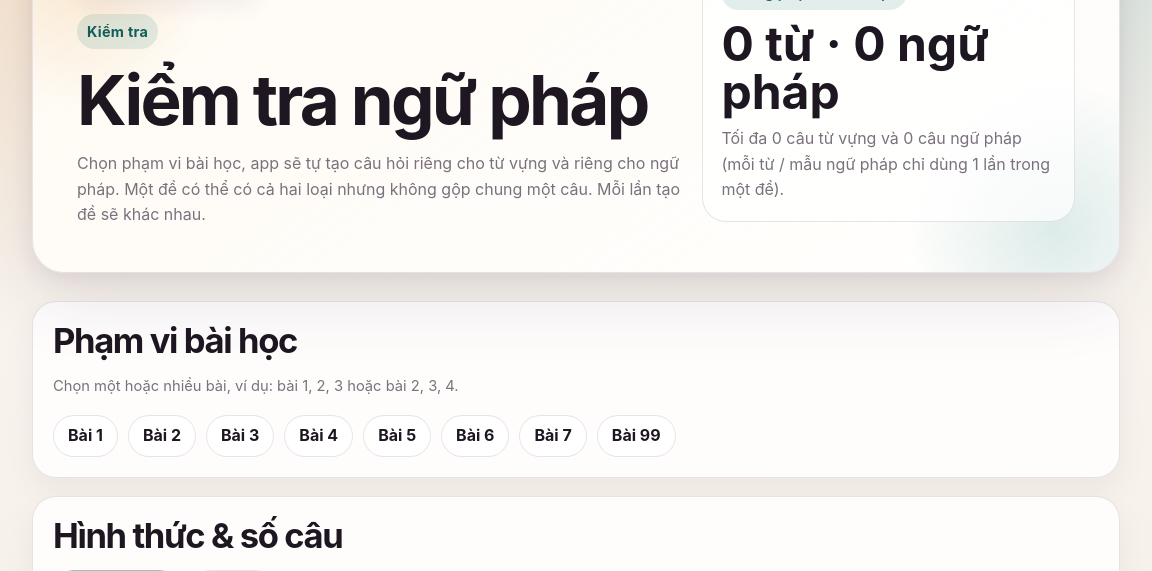
it: GrammarExamPage — làm đề trắc nghiệm › hiện giải thích ngữ pháp sau khi nộp bài
Click the button "Bài 99".
click(636, 436)  # box [597,415,676,457]
(page scrolled)
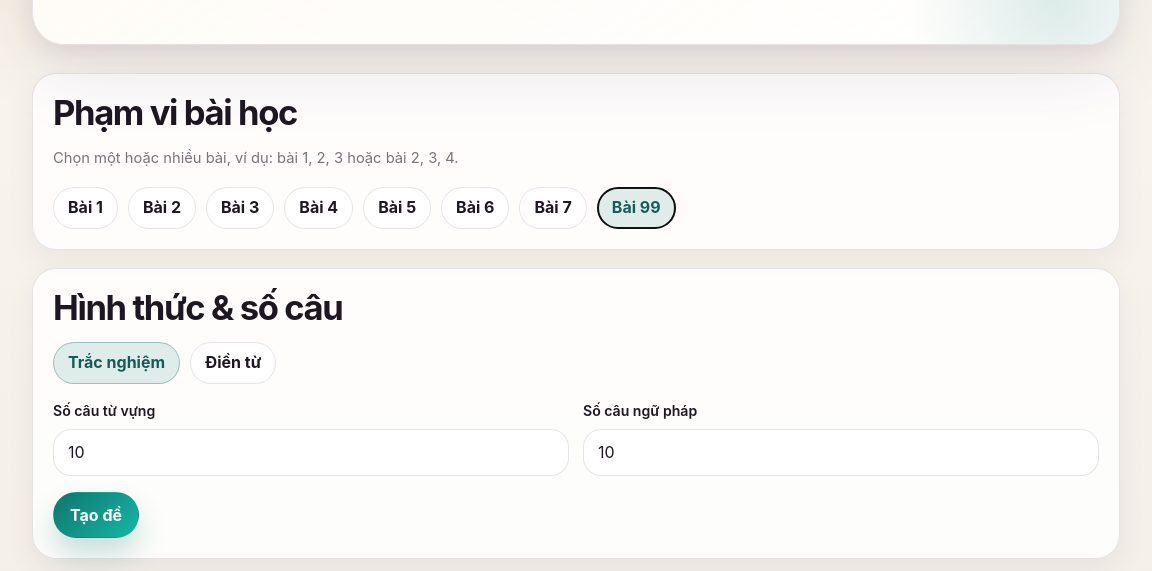
Click the button "Tạo đề".
click(96, 515)  # box [53,492,139,538]
(page scrolled)
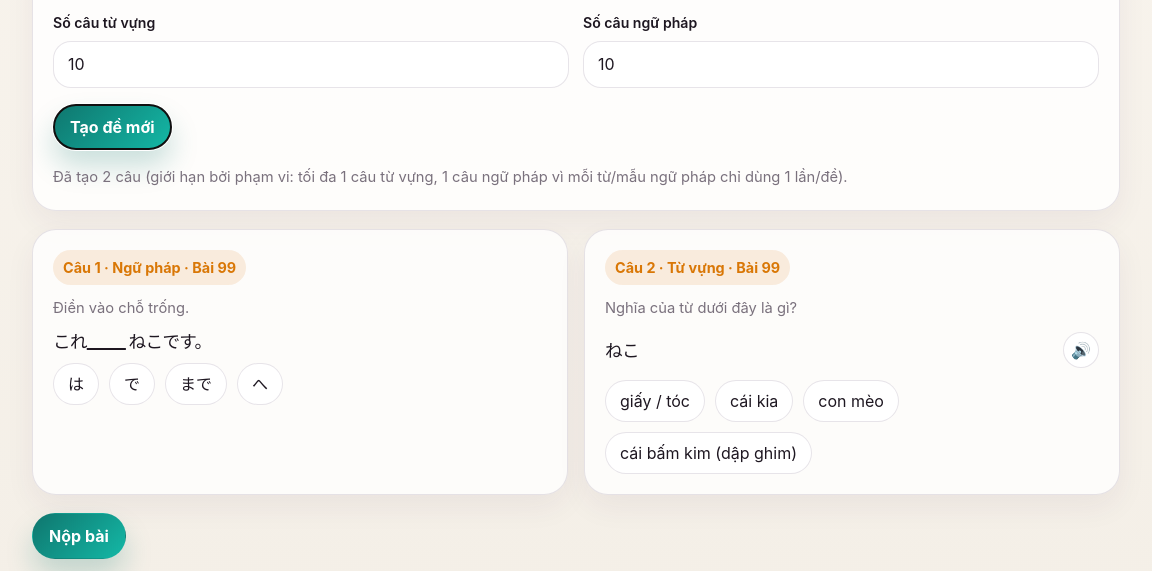
Click the button "Nộp bài".
click(79, 536)  # box [32,514,126,560]
(page scrolled)
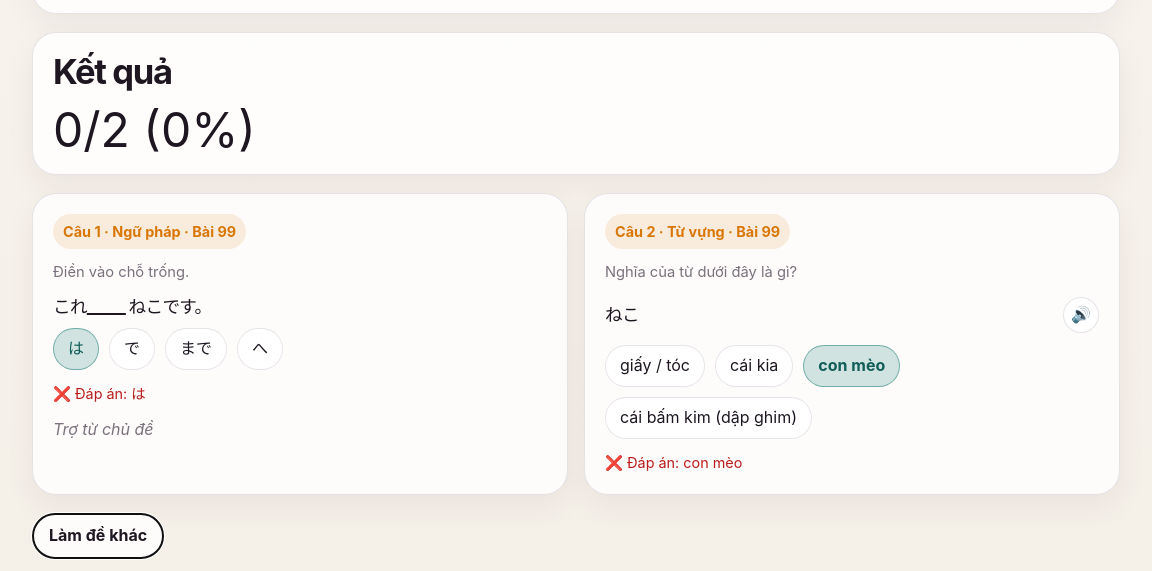
Now the text "Trợ từ chủ đề" is shown, box [53,419,154,439]
